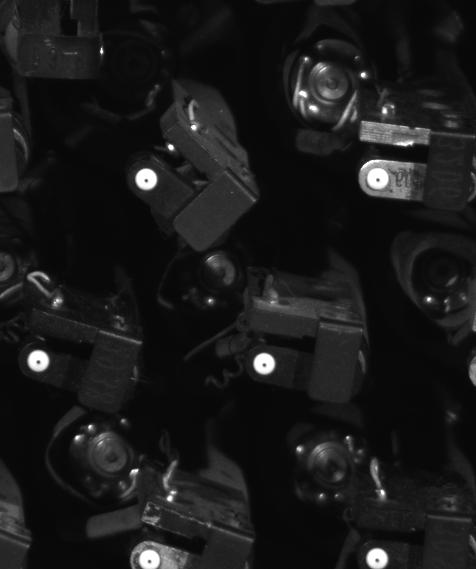fiber: (361, 165, 400, 195), (131, 162, 164, 196), (22, 345, 57, 376), (249, 348, 282, 379), (362, 544, 391, 569), (134, 546, 164, 569)
